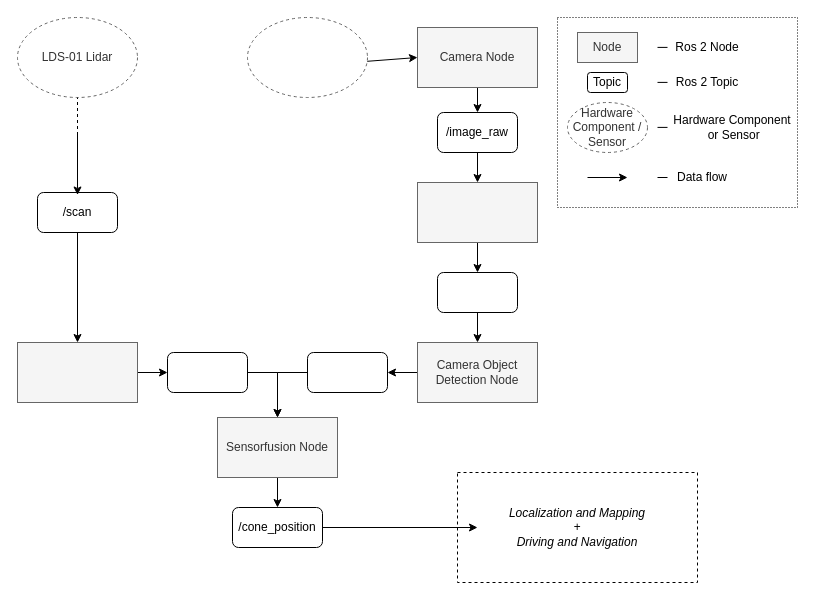
Image size: 815x600. Some labels were removed from this diagram. Here are the shapes that lost their labels. From the top down, the box of each, then its label:
(246, 16, 368, 98): Raspberry Pi Camera
(416, 182, 538, 242): Image Processing Node
(436, 272, 518, 312): /proc_img
(16, 342, 138, 402): Lidar Object Detection Node
(166, 352, 248, 392): /cone_scan
(306, 352, 388, 392): /bboxes
